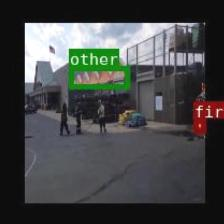fire: (193, 118, 205, 132)
